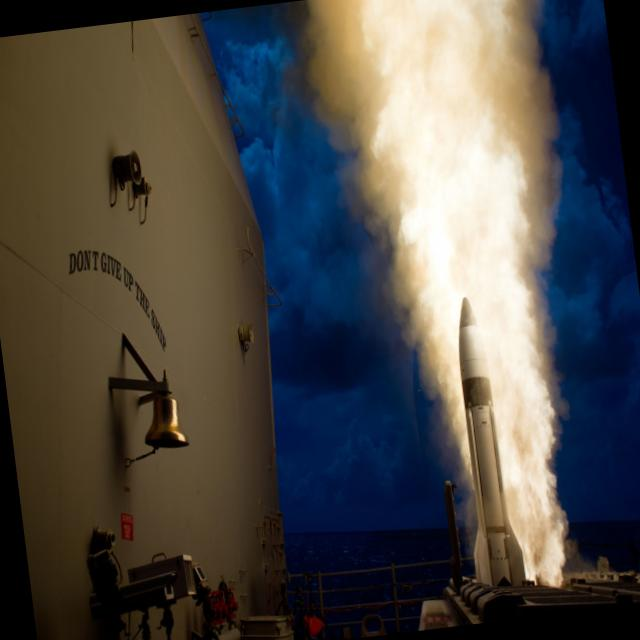rocket: (444, 283, 530, 606)
